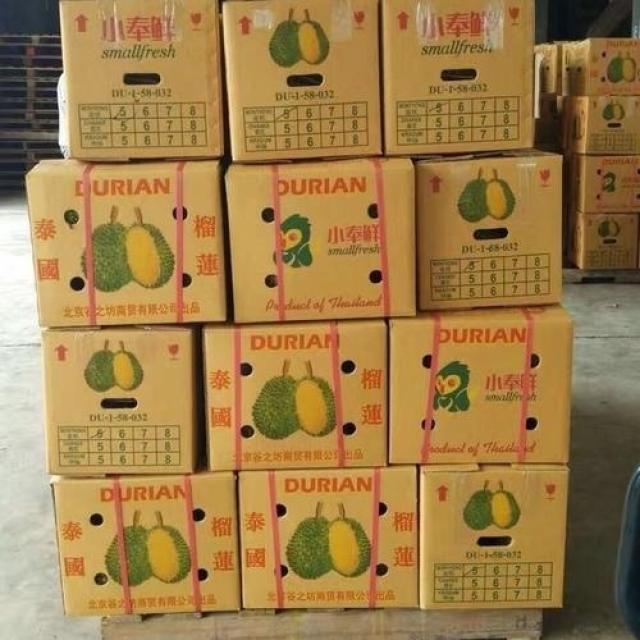Carton: (31, 163, 220, 325), (225, 159, 413, 317), (392, 311, 564, 463), (204, 321, 383, 466), (58, 0, 224, 156), (51, 477, 239, 614), (238, 468, 417, 607), (225, 0, 380, 160), (385, 1, 532, 155), (420, 154, 562, 312), (41, 332, 198, 474), (420, 470, 567, 604)
